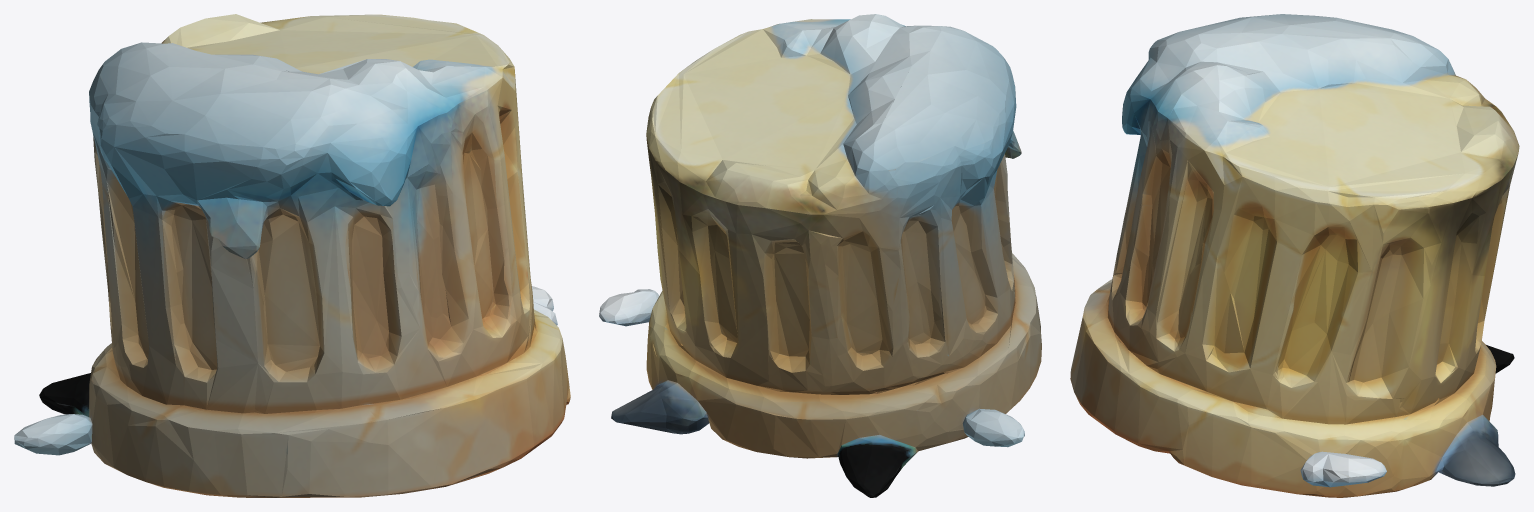
File: snow_log.glb
3 renders of one model, left to right at view 1: azimuth 30°, elevation 25°; view 2: azimuth 150°, elevation 25°; view 3: azimuth 270°, elevation 25°, orthographic. The views are drawn at different scales.
Parts seen in each view (by area): view 1: world; view 2: world; view 3: world.
Part boxes in pixels (x1=…): world: x1=14, y1=14, x2=570, y2=497; world: x1=599, y1=14, x2=1041, y2=497; world: x1=1070, y1=14, x2=1519, y2=497.
Bounding box in the file's own units: 0.8961 × 0.6905 × 0.7572.
Materials: 1 (1 with a texture image).
